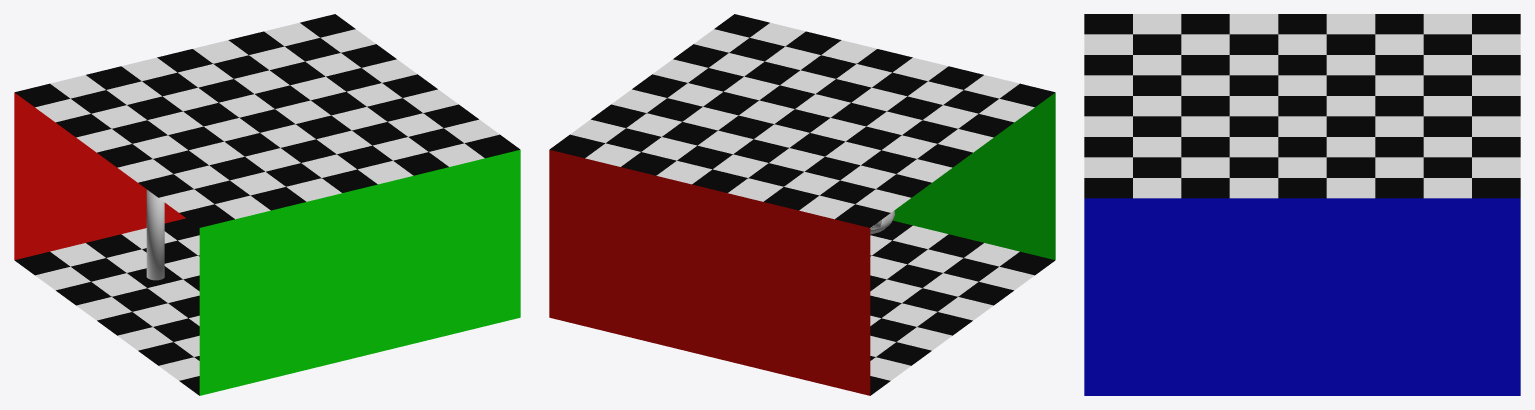
File: sampleroom.gltf
3 renders of one model, left to right at view 1: azimuth 30°, elevation 25°; view 2: azimuth 150°, elevation 25°; view 3: azimuth 270°, elevation 25°, orthographic. The views are drawn at different scales.
Parts seen in each view (by area): view 1: Plane_001, Plane02_Plane02_001, Plane, Plane02_Plane02, Cylinder01_Cylinder01; view 2: Plane_001, Plane02_Plane02, Plane, Plane02_Plane02_001; view 3: Plane03_Plane03, Plane_001.
Boxes of the visible parts, bbox=[...] form: Plane_001: bbox=[15, 14, 519, 227]; Plane02_Plane02_001: bbox=[199, 149, 520, 395]; Plane: bbox=[15, 218, 199, 395]; Plane02_Plane02: bbox=[14, 92, 185, 260]; Cylinder01_Cylinder01: bbox=[146, 189, 164, 280]; Plane_001: bbox=[550, 14, 1054, 227]; Plane02_Plane02: bbox=[549, 149, 870, 395]; Plane: bbox=[870, 220, 1054, 395]; Plane02_Plane02_001: bbox=[893, 92, 1055, 260]; Plane03_Plane03: bbox=[1084, 198, 1520, 395]; Plane_001: bbox=[1084, 14, 1520, 198].
Bounding box in the file's own units: 15 × 7.5 × 15.
